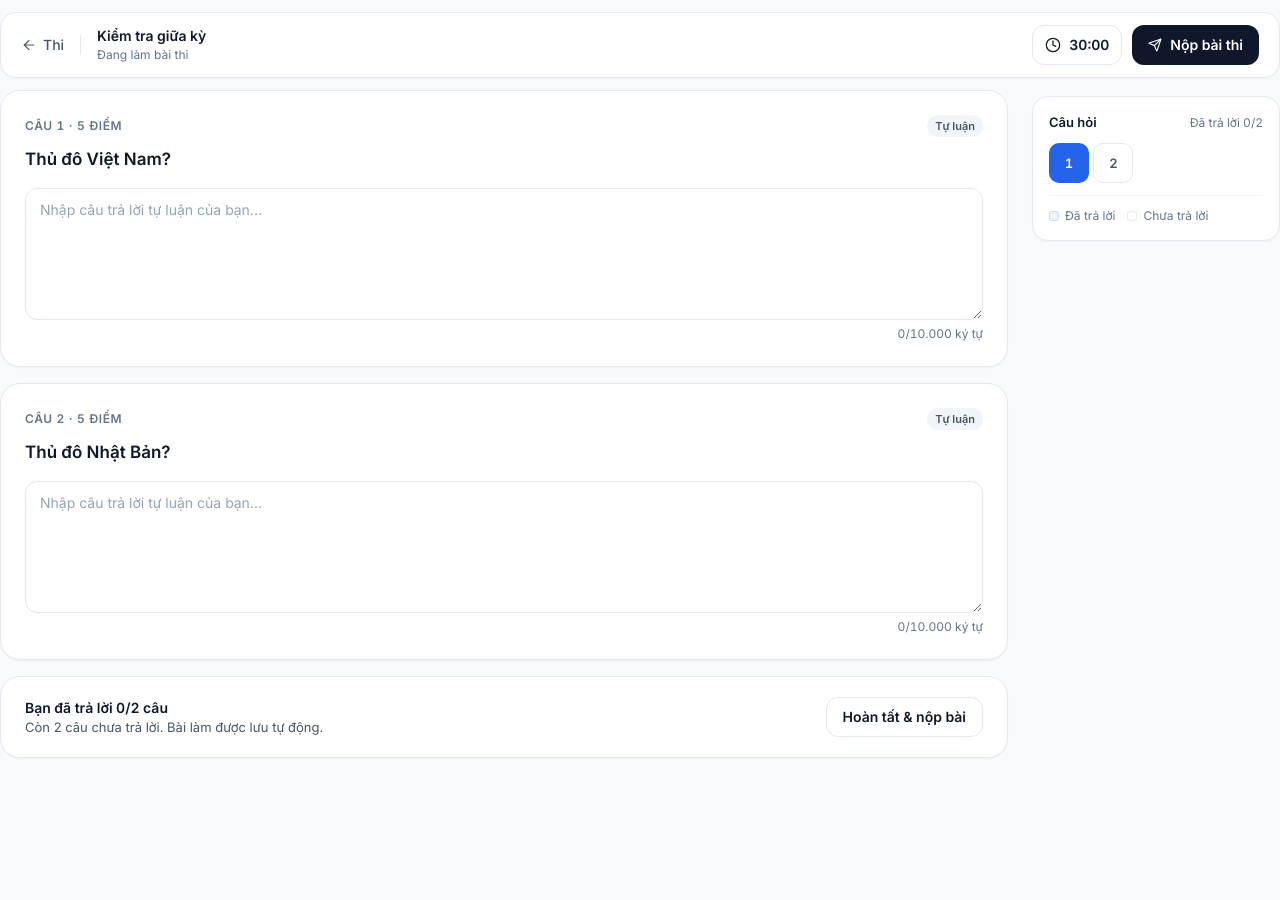
it: Exam attempt autosave retry (R20-07) › keeps retrying a save that fails with 502 (backend restart), shows a calm status, and finally saves every answer
The width and height of the screenshot is (1280, 900).
Type "Hà Nội" into the text box with placeholder "Nhập câu trả lời tự luận của bạn..." below "Thủ đô Việt Nam?" at (504, 254), box left=25, top=188, right=983, bottom=320
Wait 500 ms
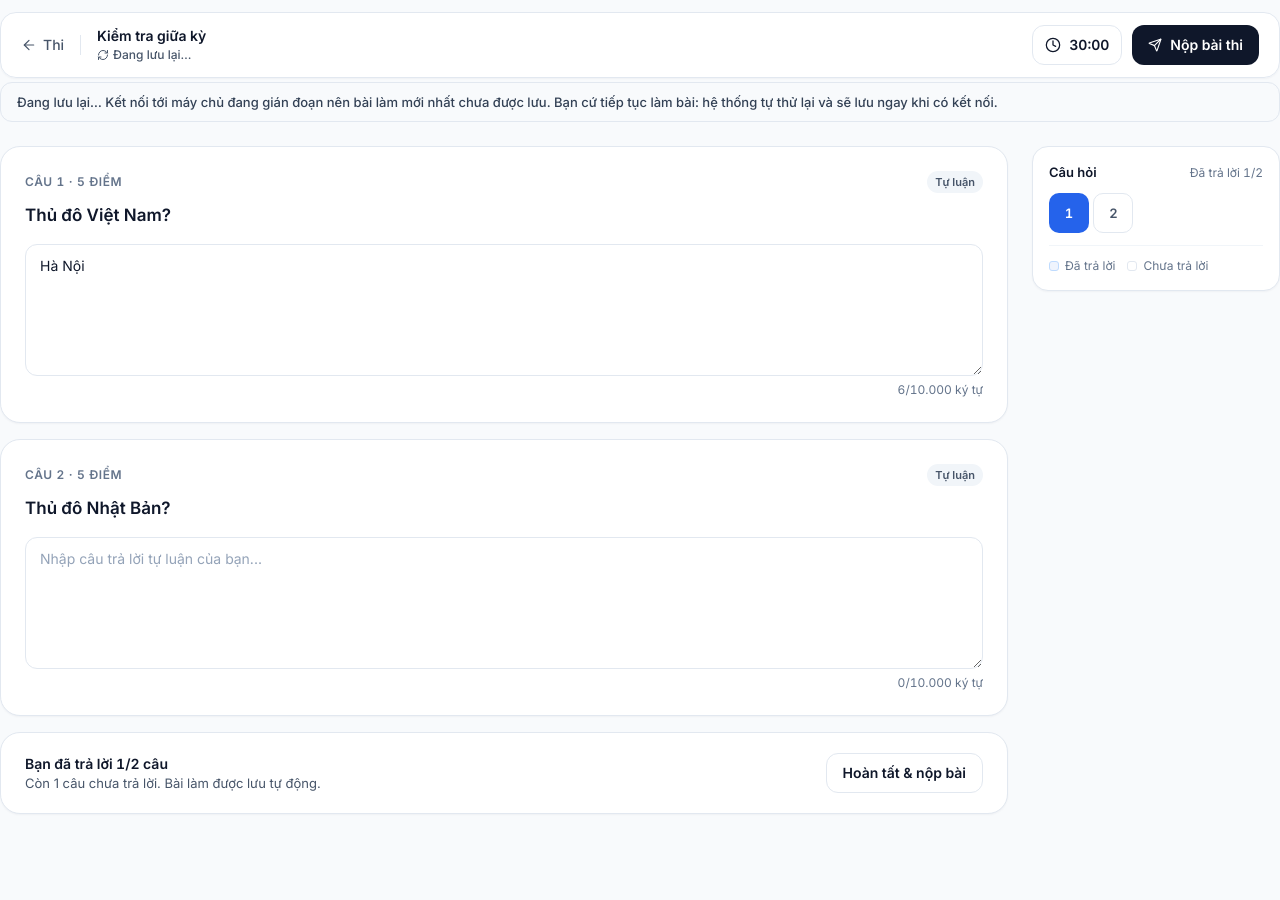
Result: the text "Đang lưu lại…" is shown at left=113, top=47, right=192, bottom=63
Result: the message is shown at left=0, top=82, right=1279, bottom=122
Type "Tokyo" into the text box with placeholder "Nhập câu trả lời tự luận của bạn..." at (504, 603), box left=25, top=537, right=983, bottom=669
Wait 90500 ms
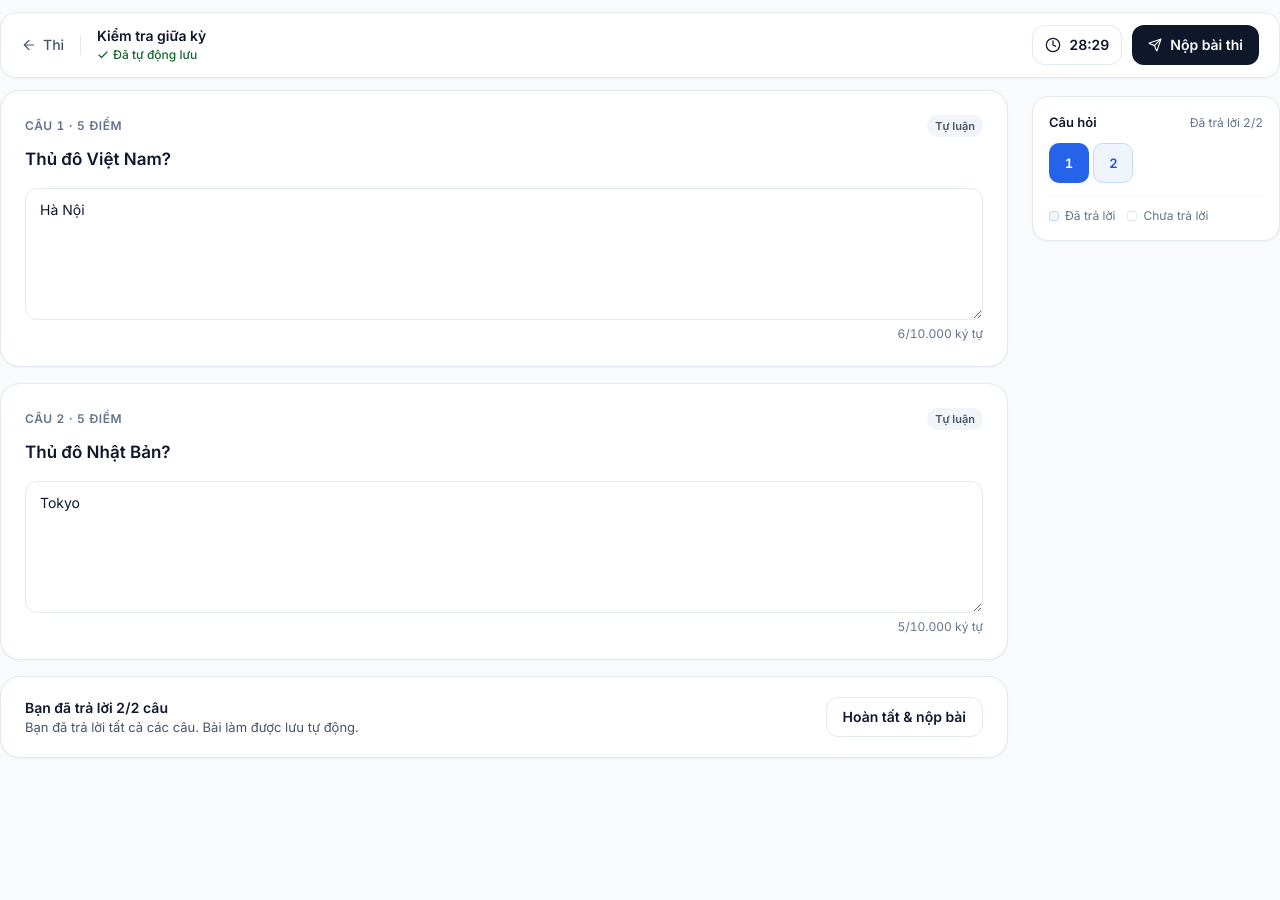
Result: the text "Đã tự động lưu" is shown at left=113, top=47, right=197, bottom=63
Result: the message "Đang lưu lại… Kết nối tới máy chủ đang gián đoạn nên bài làm mới nhất chưa được" is gone
